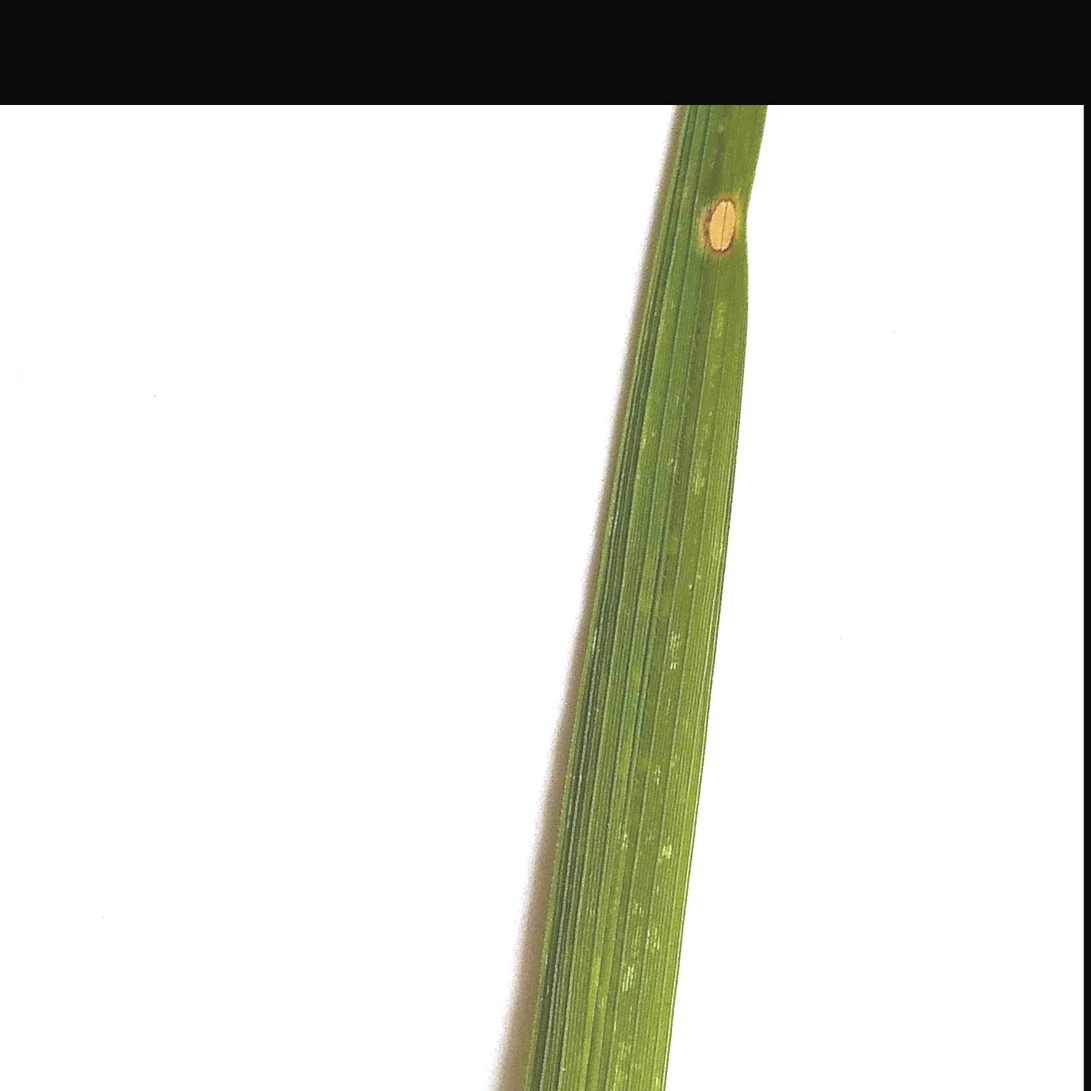Brown_Spot: (695, 168, 763, 259)
